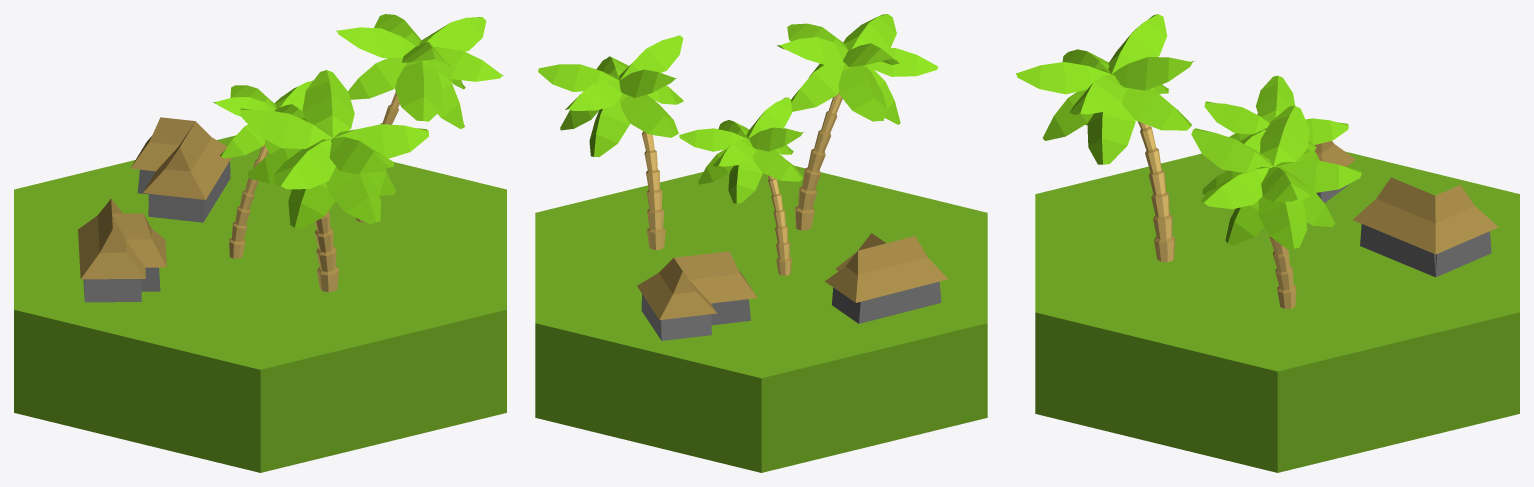
The model's file is Casas_Palmeras_2.fbx.
3 views of the same model, side by side, from view 1: azimuth 30°, elevation 25°; view 2: azimuth 150°, elevation 25°; view 3: azimuth 270°, elevation 25° (orthographic). The views are drawn at different scales.
Parts seen in each view (by area): view 1: Casas_Palmeras_2; view 2: Casas_Palmeras_2; view 3: Casas_Palmeras_2.
Part boxes in pixels (box(x1,y1,x2,y2)): Casas_Palmeras_2: box(14, 14, 506, 472); Casas_Palmeras_2: box(535, 14, 987, 472); Casas_Palmeras_2: box(1016, 14, 1519, 472).
Size of the model in its own units: 200 by 120 by 180.
